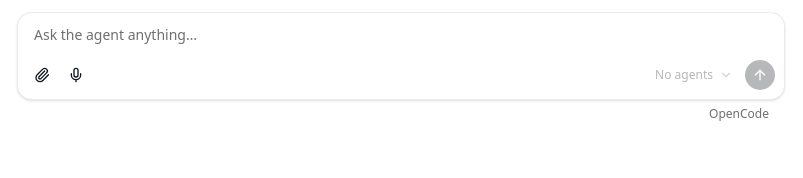
Test: Composer slash-command submit routing › shows the read-only model hint for bare /model on opencode-native
The image size is (803, 178).
Type "/model " into the text box named "Message the agent". click: (401, 33)
box: [18,13,784,53]
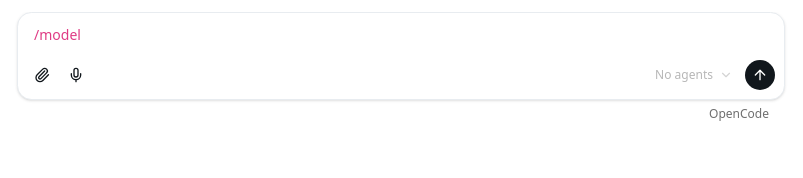
Press Enter in the text box named "Message the agent", box [18,13,784,53]
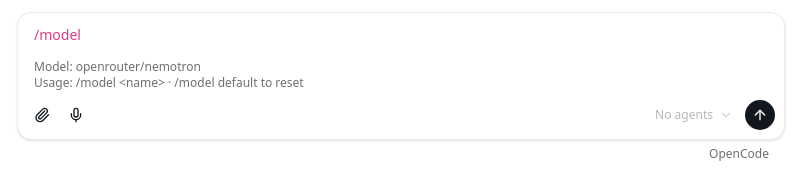
Now the text "openrouter/nemotron" is shown, box [34,58,304,91]
